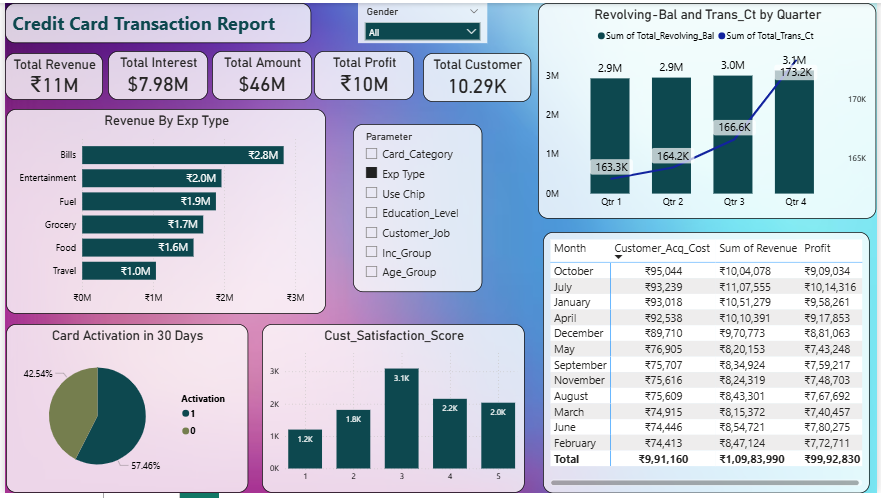

What the dashboard file says about the page in this screenshot:
{"tool":"powerbi","page":{"name":"Page 1","canvas":[1280,720],"ordinal":0},"visuals":[{"type":"card","title":"Total Revenue","fields":{"Values":["Sum(credit_card.Revenue)"]},"box":[0,73.5,144,74.9],"z":0},{"type":"card","title":"Total Interest","fields":{"Values":["Sum(credit_card.Interest_Earned)"]},"box":[144,70.5,146.9,72],"z":1000},{"type":"card","title":"Total Amount","fields":{"Values":["Sum(credit_card.Total_Trans_Amt)"]},"box":[304.2,70.5,146.9,72],"z":2000},{"type":"slicer","fields":{"Values":["Parameter.Parameter"]},"box":[471.7,155.8,189.6,246.9],"z":3000},{"type":"barChart","fields":{"Category":["credit_card.Card_Category","credit_card.Exp Type","credit_card.Use Chip","customer.Education_Level","customer.Customer_Job","customer.Inc_Group","customer.Age_Group"],"Y":["Sum(credit_card.Revenue)"]},"box":[1.5,155.8,470.2,301.2],"z":4000},{"type":"lineStackedColumnComboChart","title":"Revolving-Bal and Trans_Ct by Quarter","fields":{"Y2":["Sum(credit_card.Total_Trans_Ct)"],"Category":["credit_card.Week_Start_Date.Variation.Date Hierarchy.Quarter"],"Y":["Sum(credit_card.Total_Revolving_Bal)"]},"box":[783.2,0,496.7,285.1],"z":5000},{"type":"textbox","box":[0,0,449.6,58.8],"z":6000},{"type":"card","title":"Total Customer","fields":{"Values":["CountNonNull(customer.Client_Num)"]},"box":[614.2,73.5,158.7,72],"z":7000},{"type":"pivotTable","fields":{"Rows":["credit_card.Week_Start_Date.Variation.Date Hierarchy.Month"],"Values":["Sum(credit_card.Customer_Acq_Cost)","Sum(credit_card.Revenue)","credit_card.Profit"]},"box":[783.2,301.2,477.6,377.6],"z":8000},{"type":"pieChart","title":"Card Activation in 30 Days ","fields":{"Category":["credit_card.Activation_30_Days"],"Y":["Divide(CountNonNull(credit_card.Activation_30_Days), ScopedEval(CountNonNull(credit_card.Activation_30_Days), []))"]},"box":[0,471.7,355.6,248.3],"z":9000},{"type":"columnChart","title":" Cust_Satisfaction_Score","fields":{"Category":["customer.Cust_Satisfaction_Score"],"Y":["CountNonNull(customer.Client_Num)"]},"box":[364.4,471.7,386.4,248.3],"z":10000},{"type":"card","title":"Total Profit","fields":{"Values":["credit_card.Profit"]},"box":[454,70.5,146.9,72],"z":11000},{"type":"slicer","fields":{"Values":["customer.Gender"]},"box":[451.1,0,310,58.8],"z":12000}]}

Visuals, with their boxes in screenshot pixels (x1, y1, x2, y2), scaled from the page's 1280x720 canvas onto the 881x498 screenshot:
"Total Revenue" card: Rect(0, 51, 99, 103)
"Total Interest" card: Rect(99, 49, 200, 99)
"Total Amount" card: Rect(209, 49, 310, 99)
slicer - Parameter.Parameter: Rect(325, 108, 455, 279)
barChart - credit_card.Card_Category x credit_card.Exp Type: Rect(1, 108, 325, 316)
"Revolving-Bal and Trans_Ct by Quarter" lineStackedColumnComboChart: Rect(539, 0, 880, 197)
textbox: Rect(0, 0, 309, 41)
"Total Customer" card: Rect(423, 51, 532, 101)
pivotTable - credit_card.Week_Start_Date.Variation.Date Hierarchy.Month x Sum(credit_card.Customer_Acq_Cost): Rect(539, 208, 868, 470)
"Card Activation in 30 Days " pieChart: Rect(0, 326, 245, 497)
" Cust_Satisfaction_Score" columnChart: Rect(251, 326, 517, 497)
"Total Profit" card: Rect(312, 49, 414, 99)
slicer - customer.Gender: Rect(310, 0, 524, 41)
